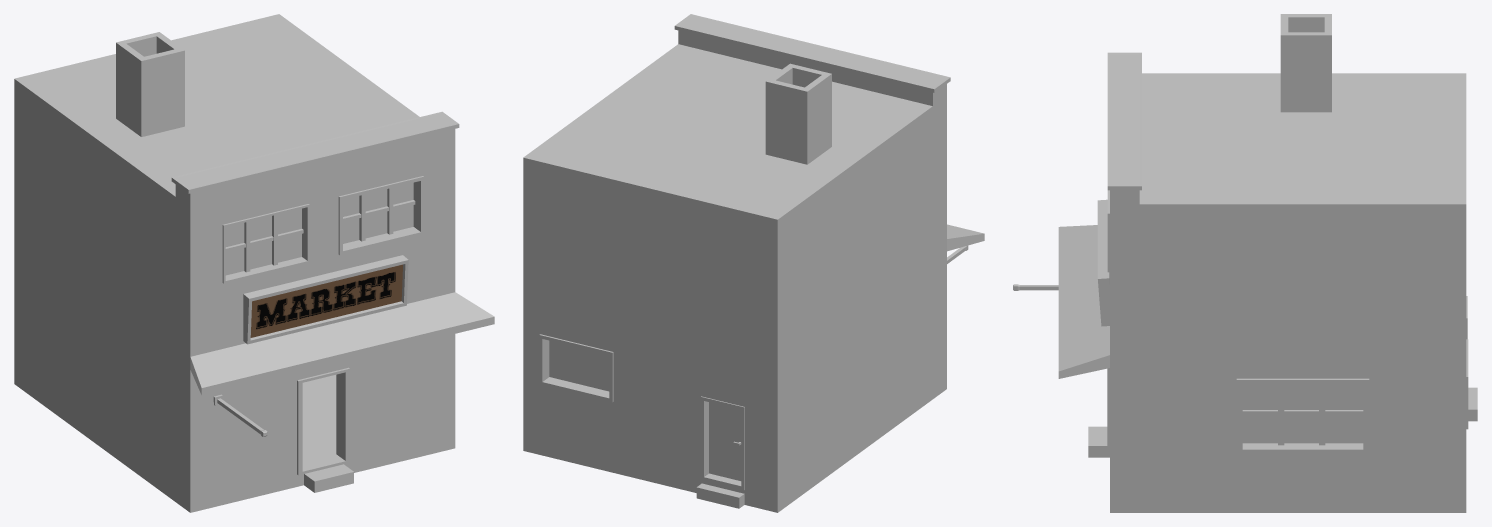
File: Casa_8.fbx
3 views of the same model, side by side, from view 1: azimuth 30°, elevation 25°; view 2: azimuth 150°, elevation 25°; view 3: azimuth 270°, elevation 25° (orthographic). The views are drawn at different scales.
Visible parts, largest first — view 1: Casa, Banner; view 2: Casa; view 3: Casa.
Part boxes in pixels (box(x1,y1,x2,y2)): Casa: box(14, 14, 494, 512); Banner: box(250, 264, 402, 337); Casa: box(523, 14, 984, 512); Casa: box(1013, 14, 1477, 512).
Size of the model in its own units: 5902 by 7339 by 8006.
